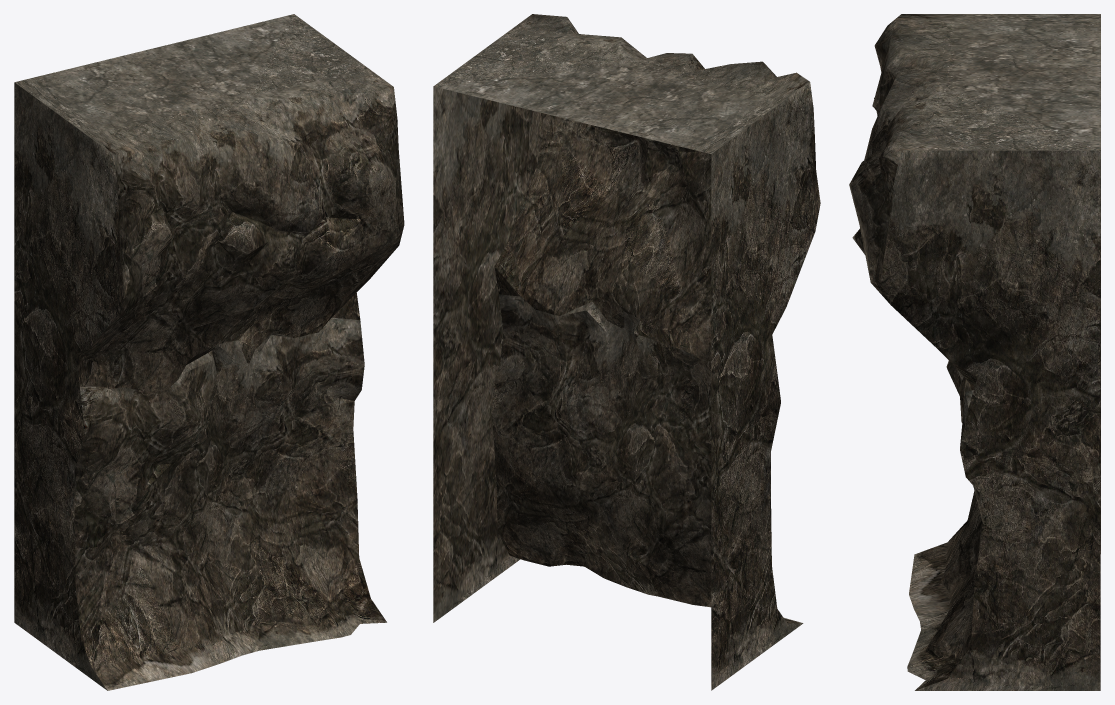
File: SM_Env_Fire_Cliffs_CliffWall_06a.FBX
The picture shows the model from 3 angles, left to right: view 1: azimuth 30°, elevation 25°; view 2: azimuth 150°, elevation 25°; view 3: azimuth 270°, elevation 25°; orthographic projection.
Visible parts, largest first — view 1: SM_Env_Fire_Cliffs_CliffWall_06a; view 2: SM_Env_Fire_Cliffs_CliffWall_06a; view 3: SM_Env_Fire_Cliffs_CliffWall_06a.
Boxes of the visible parts, bbox=[...] form: SM_Env_Fire_Cliffs_CliffWall_06a: bbox=[14, 14, 404, 690]; SM_Env_Fire_Cliffs_CliffWall_06a: bbox=[433, 14, 820, 690]; SM_Env_Fire_Cliffs_CliffWall_06a: bbox=[849, 14, 1100, 690].
Size of the model in its own units: 1040 by 810 by 1934.
